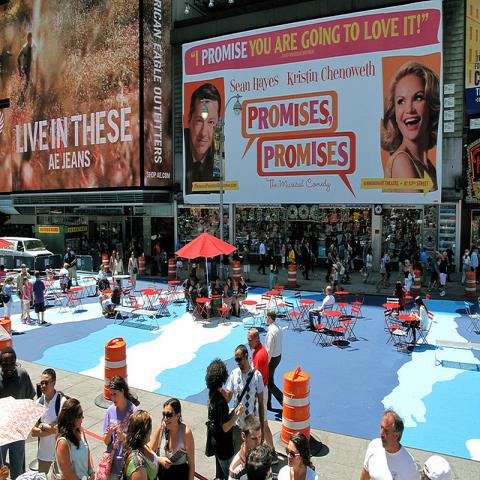car: (1, 236, 54, 258)
